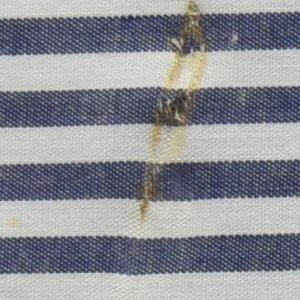Damage: (138, 1, 210, 225)
Oil Stain: (129, 1, 216, 228)
Stain: (4, 214, 28, 234)
